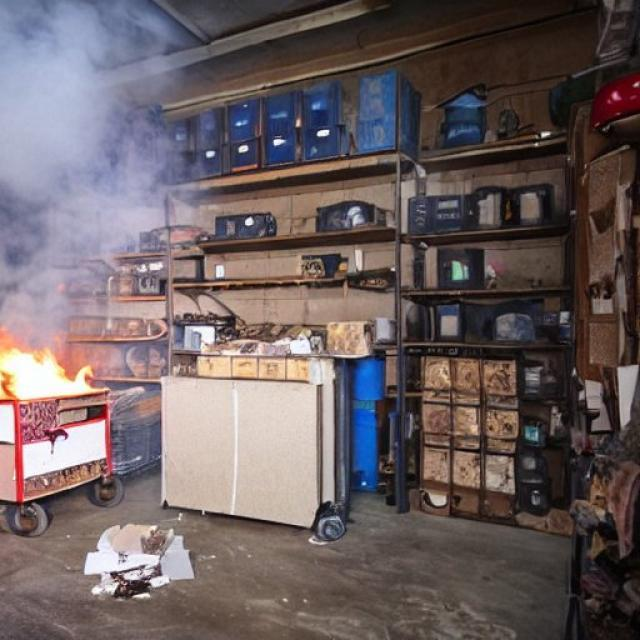Fire: (0, 346, 99, 404)
Smoke: (0, 0, 182, 350)
